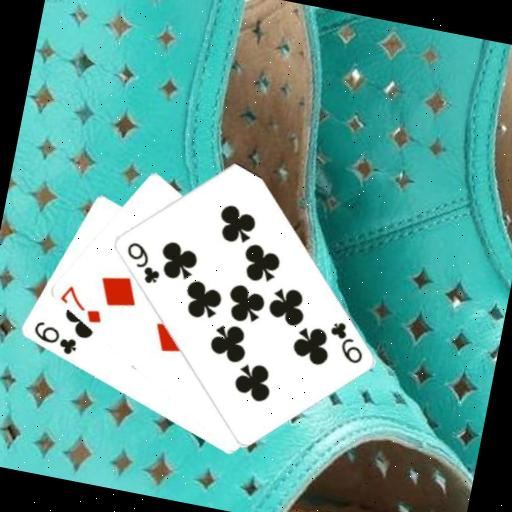6C: (27, 317, 82, 358)
7D: (53, 281, 108, 327)
9C: (118, 237, 167, 287), (322, 317, 370, 367)
